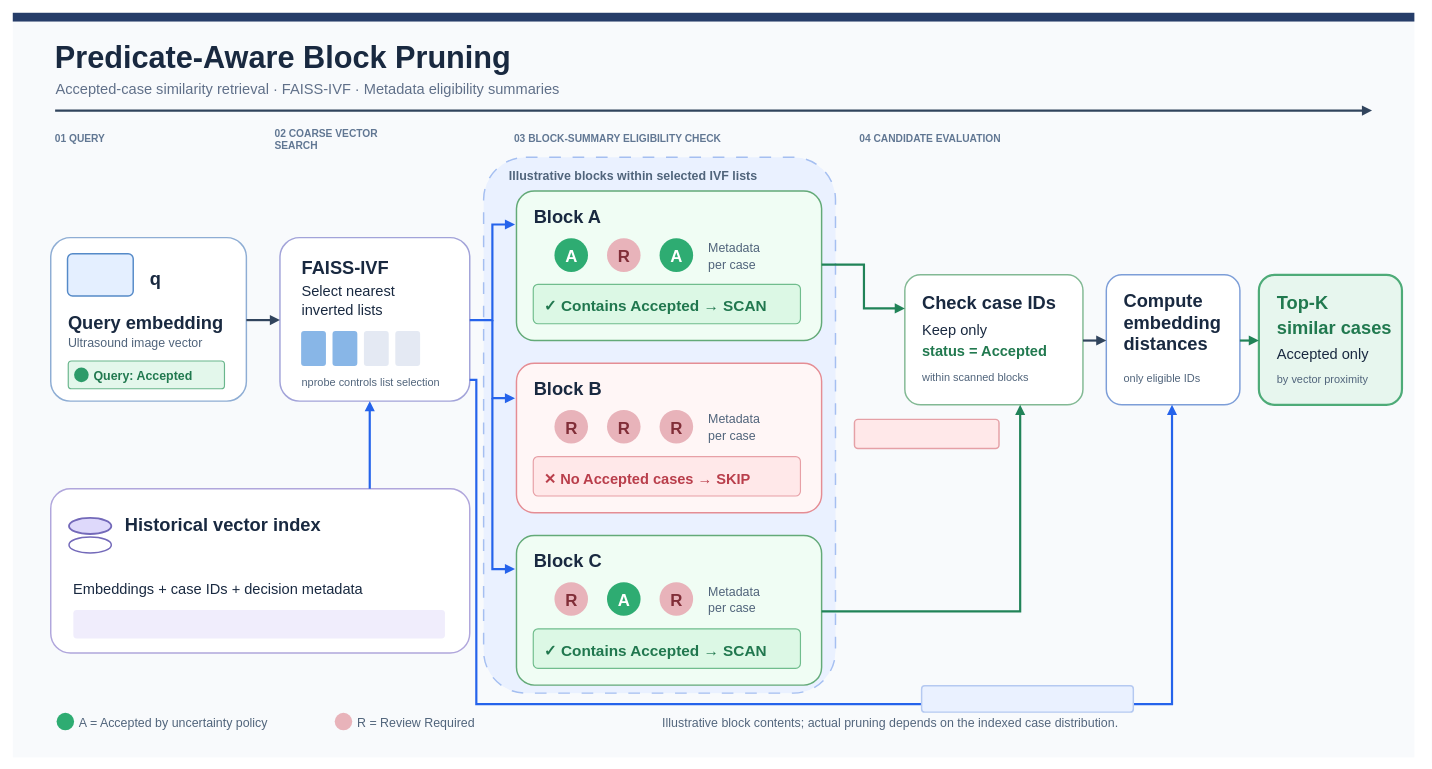
This 1432x769 diagram has some shape labels left out. The box of each missing label's shape, as (x1, y1, x2, y2) in pixels:
Block summary = whether any case is Accepted: (73, 610, 445, 638)
Query vector q for distances: (921, 685, 1134, 712)
Skip whole block: (853, 418, 999, 449)
